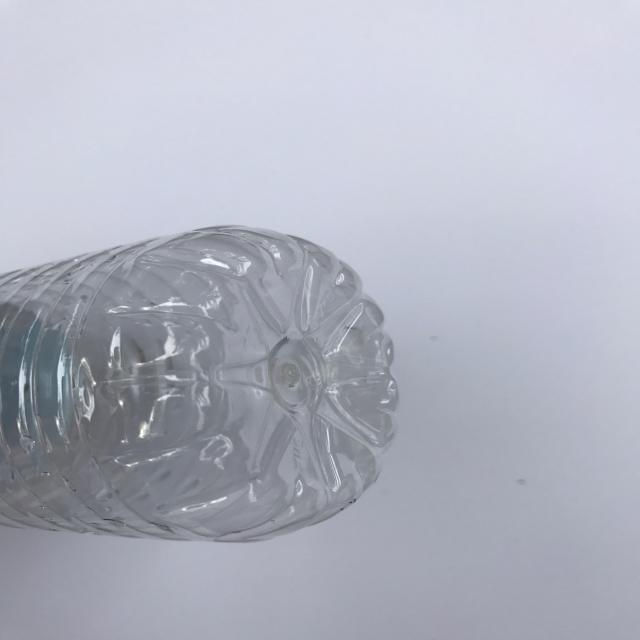plastic: (1, 224, 399, 544)
